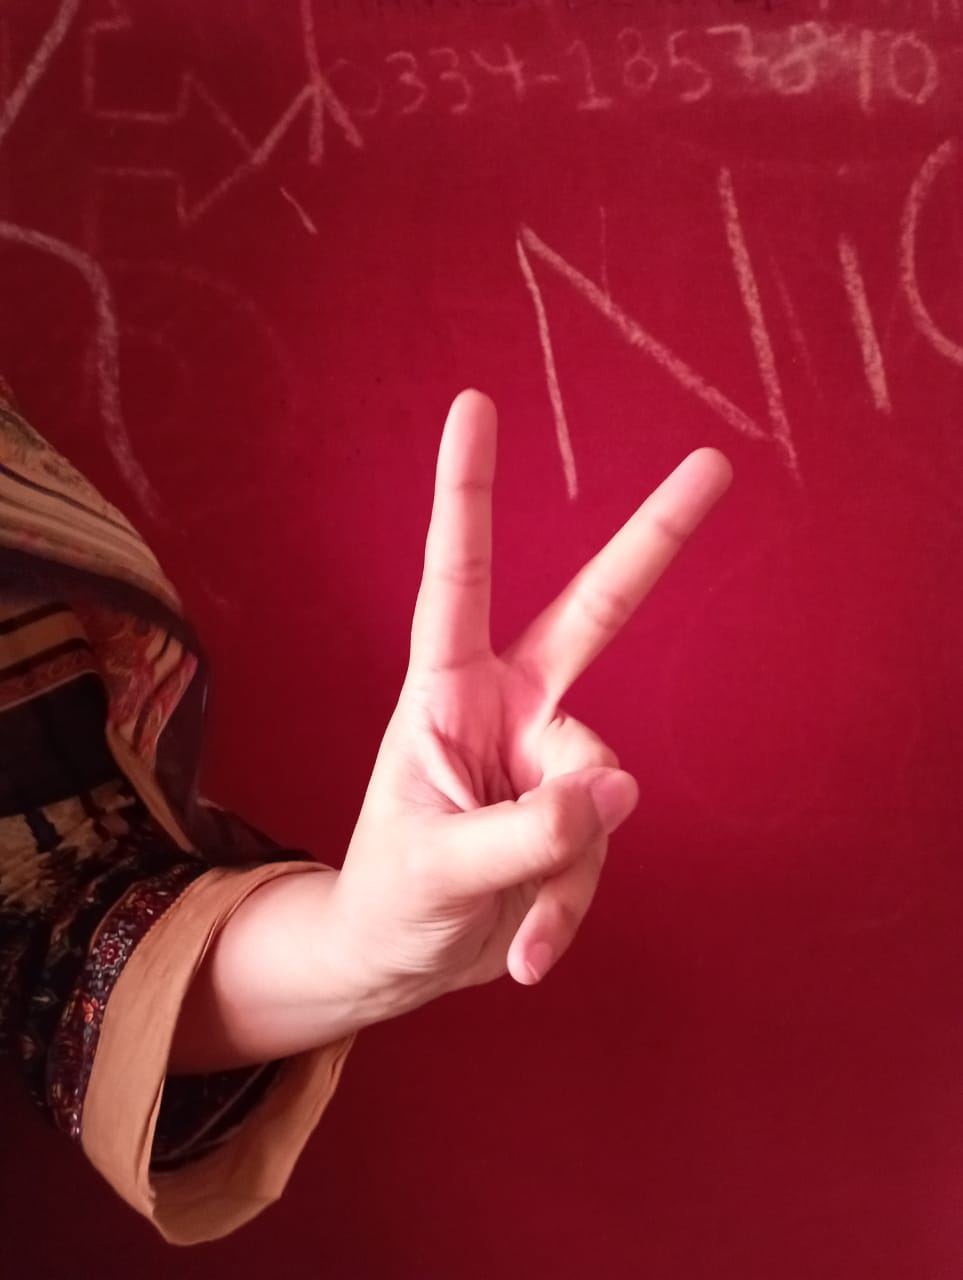Peace: (383, 370, 754, 1023)
